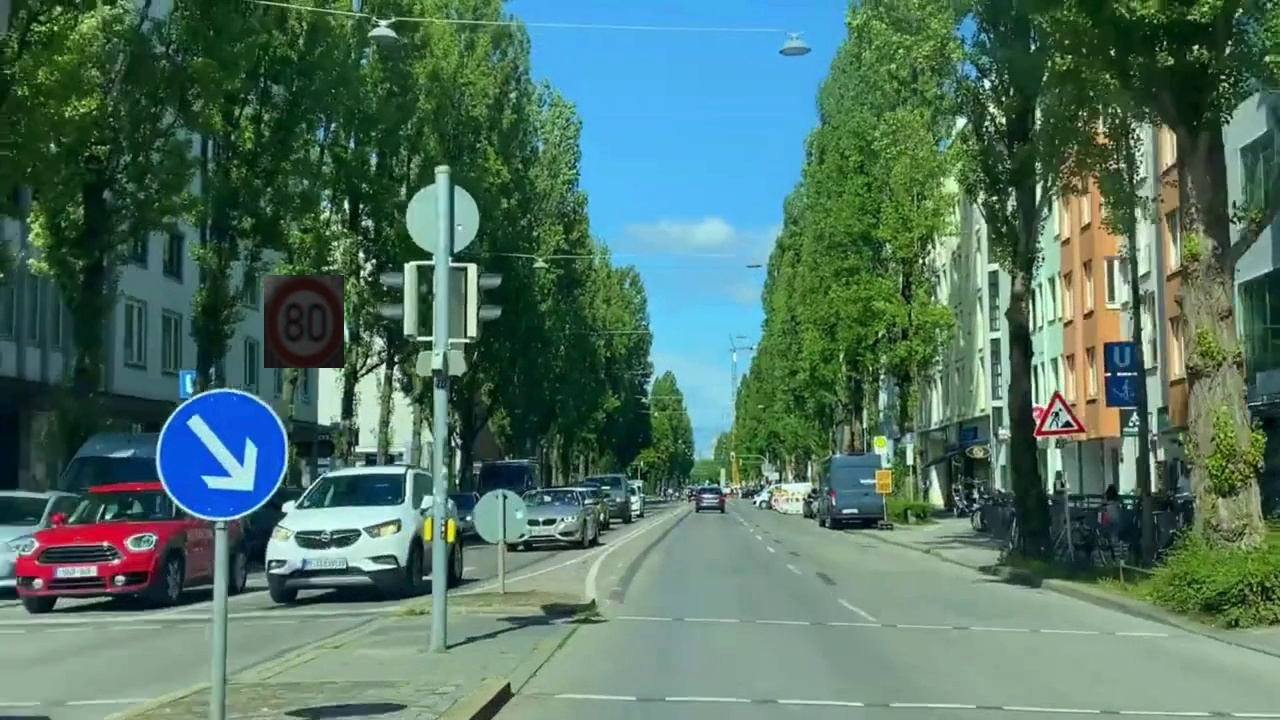Speed 80: (264, 275, 344, 368)
